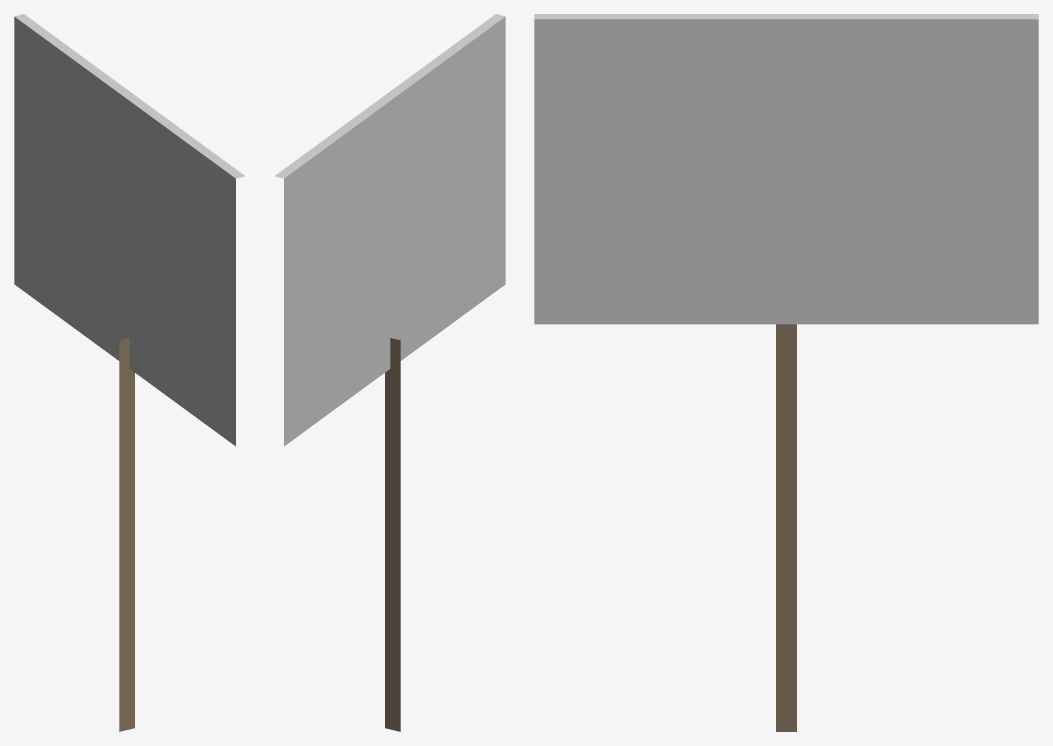
File: SM_Sign.glb
The picture shows the model from 3 angles, left to right: view 1: azimuth 30°, elevation 25°; view 2: azimuth 150°, elevation 25°; view 3: azimuth 270°, elevation 25°; orthographic projection. The views are drawn at different scales.
Parts seen in each view (by area): view 1: SM_Sign; view 2: SM_Sign; view 3: SM_Sign.
Part boxes in pixels (x1=…): SM_Sign: x1=14, y1=14, x2=245, y2=731; SM_Sign: x1=274, y1=14, x2=505, y2=731; SM_Sign: x1=534, y1=14, x2=1038, y2=731.
Bounding box in the file's own units: 0.041 × 1.22 × 0.78.
